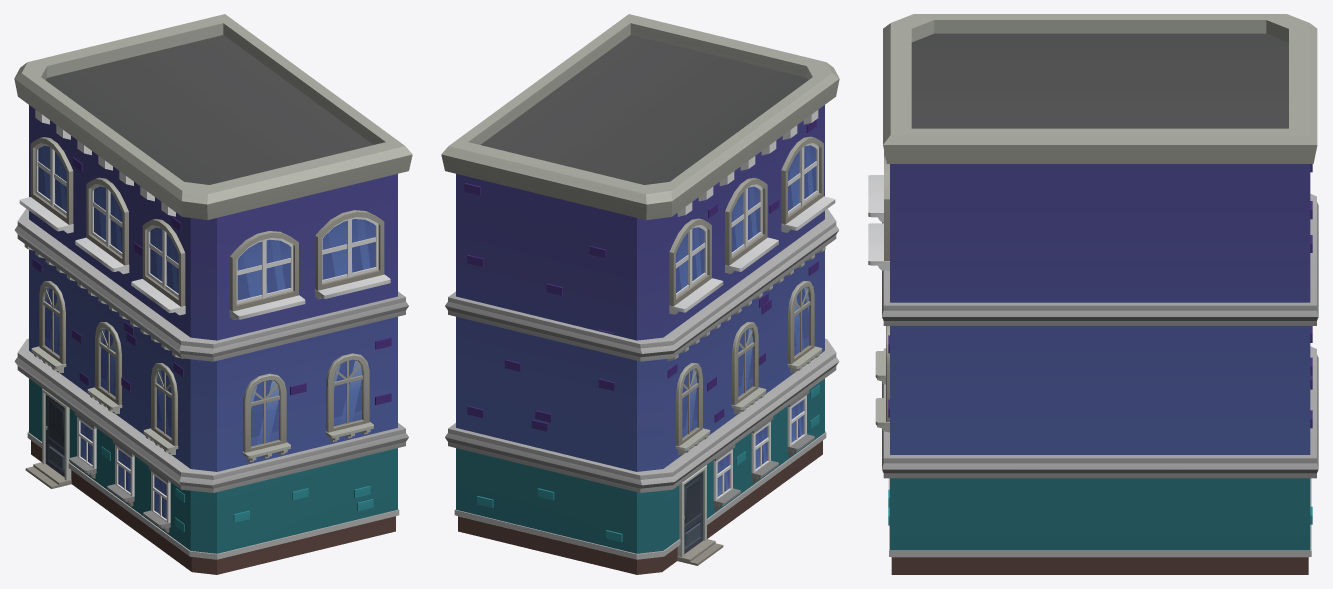
File: Building_18_3_C.glb
The picture shows the model from 3 angles, left to right: view 1: azimuth 30°, elevation 25°; view 2: azimuth 150°, elevation 25°; view 3: azimuth 270°, elevation 25°; orthographic projection. The views are drawn at different scales.
Parts seen in each view (by area): view 1: Building_18_3_C; view 2: Building_18_3_C; view 3: Building_18_3_C.
Part boxes in pixels (bbox=[...]): Building_18_3_C: bbox=[14, 14, 412, 574]; Building_18_3_C: bbox=[441, 14, 839, 574]; Building_18_3_C: bbox=[868, 14, 1318, 574].
Bounding box in the file's own units: 7.19 × 11.56 × 10.59.
Materials: 3 (3 with a texture image).
